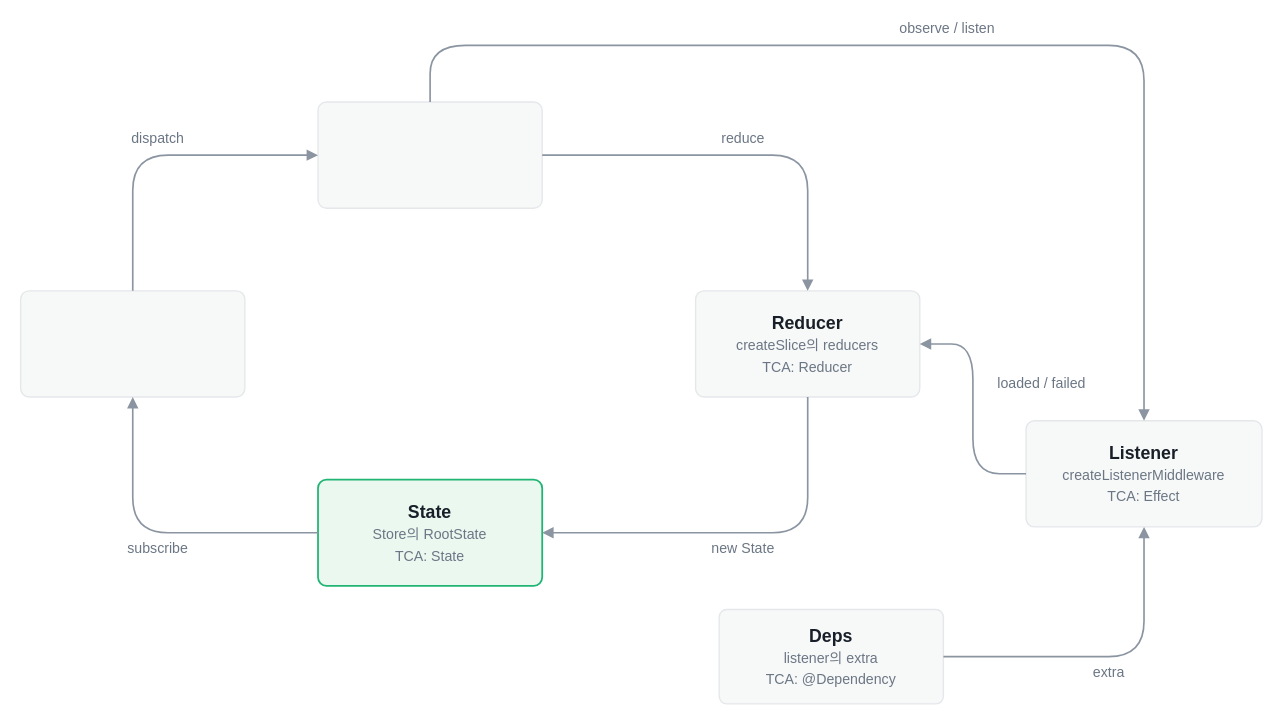
This 1284x725 diagram has some shape labels left out. The shapes that lost their labels are listed below. From the top down, each one's box as (x1, y1, x2, y2) in pixels, then its label:
(317, 101, 542, 208): Action loadTapped, loaded, failed TCA: Action
(19, 290, 245, 397): View React Native 컴포넌트 TCA: View, Store
